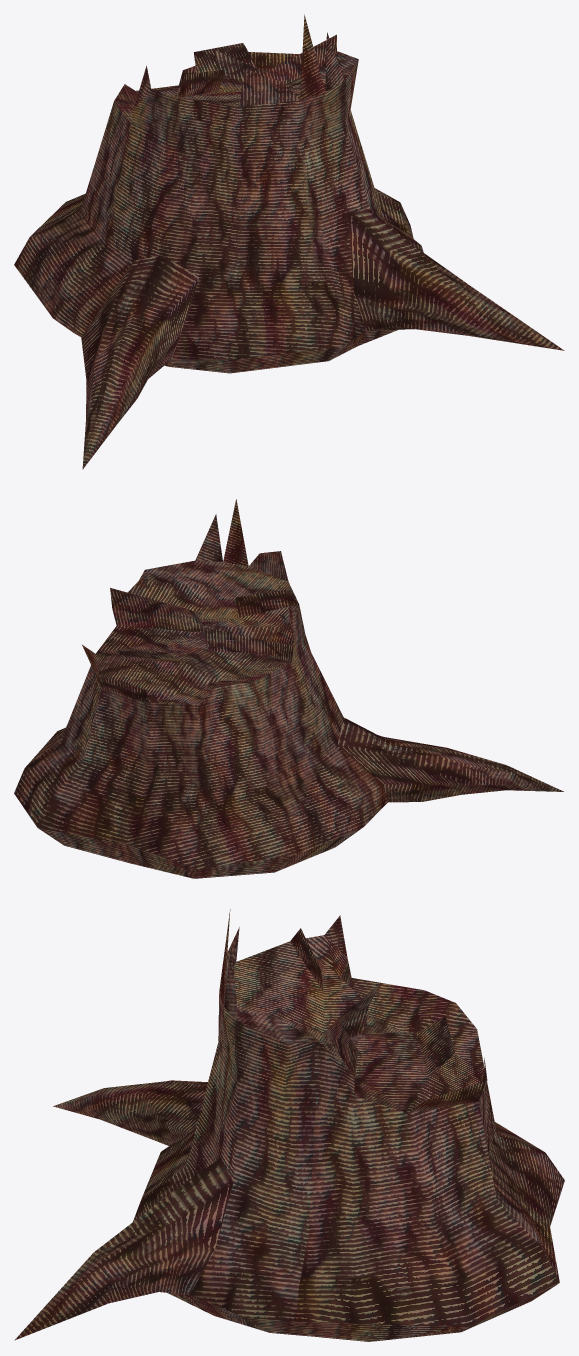
Rendered from fallentree_stump.glb.
The picture shows the model from 3 angles, top to bottom: view 1: azimuth 30°, elevation 25°; view 2: azimuth 150°, elevation 25°; view 3: azimuth 270°, elevation 25°; orthographic projection. The views are drawn at different scales.
Visible parts, largest first — view 1: BustedStump; view 2: BustedStump; view 3: BustedStump.
Boxes of the visible parts, <box> form: BustedStump: <box>14,14,564,469</box>; BustedStump: <box>14,499,563,878</box>; BustedStump: <box>14,909,564,1341</box>.
Bounding box in the file's own units: 2.97 × 1.98 × 2.71.
Materials: 1 (1 with a texture image).
